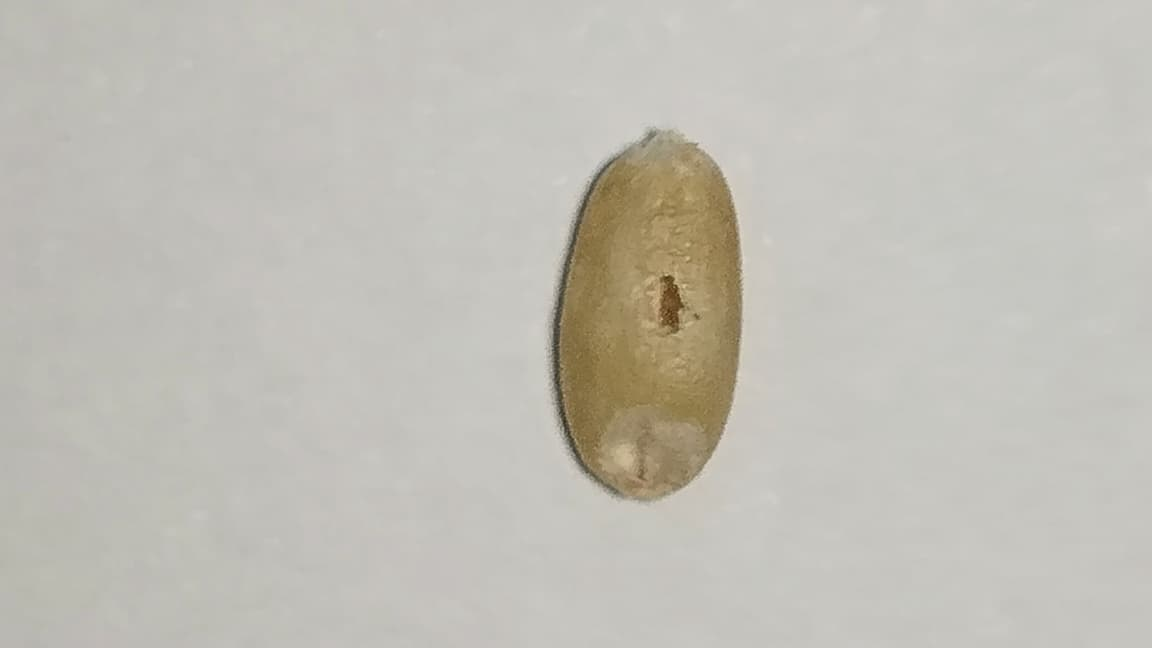damage: (555, 127, 742, 500)
insectdamage: (594, 399, 724, 501), (623, 255, 702, 348)
